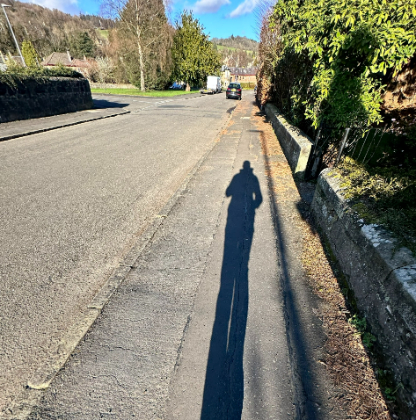car: (225, 76, 242, 105)
tree: (102, 0, 170, 95), (179, 14, 216, 86)
